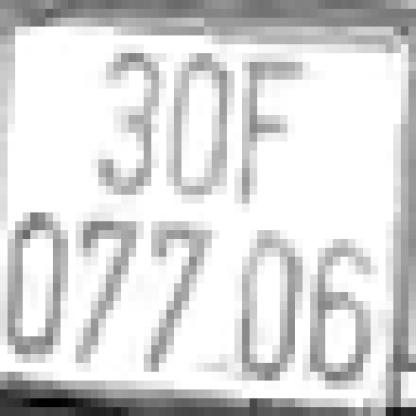0: (227, 221, 295, 372), (8, 204, 68, 354), (174, 53, 227, 204)
3: (98, 53, 159, 195)
6: (303, 230, 363, 381)
7: (76, 212, 136, 354), (151, 212, 204, 363)
F: (234, 62, 302, 204)
